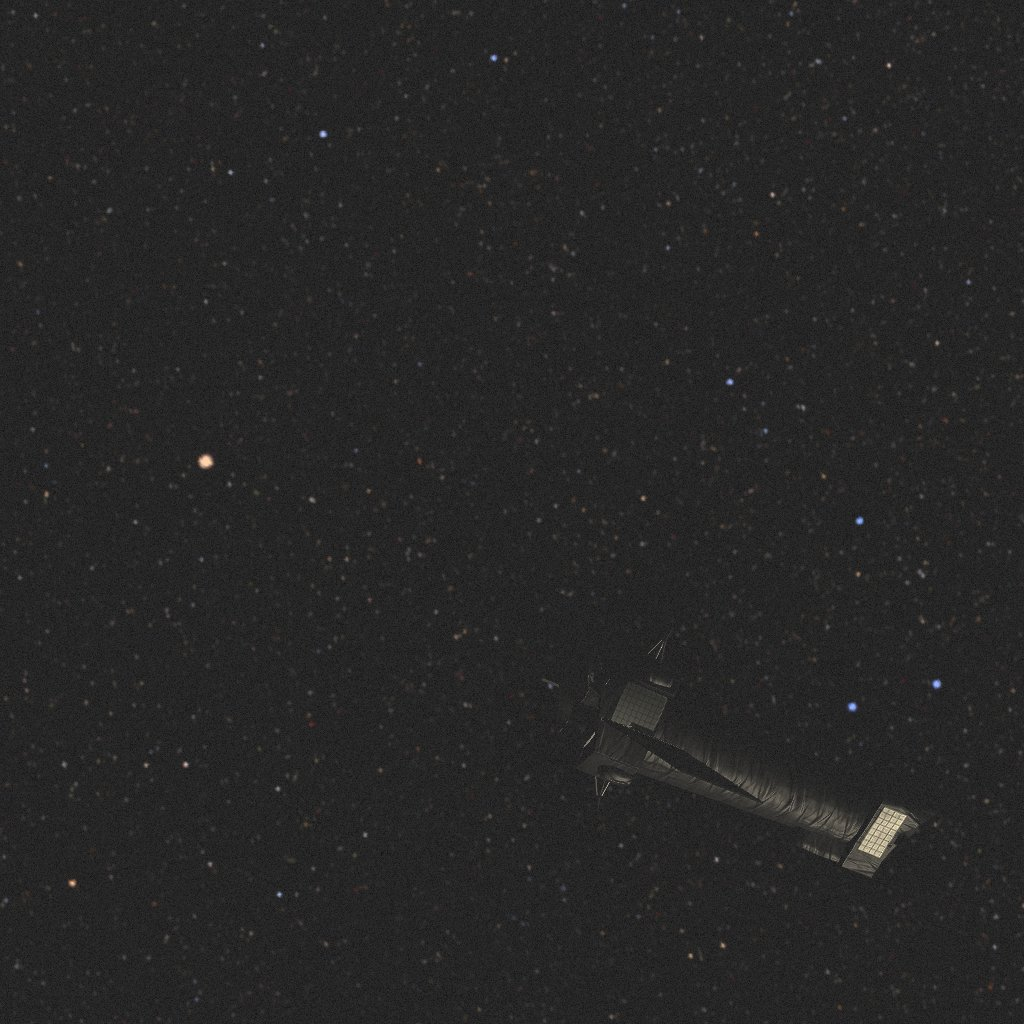xmm_newton: (472, 595, 952, 878)
